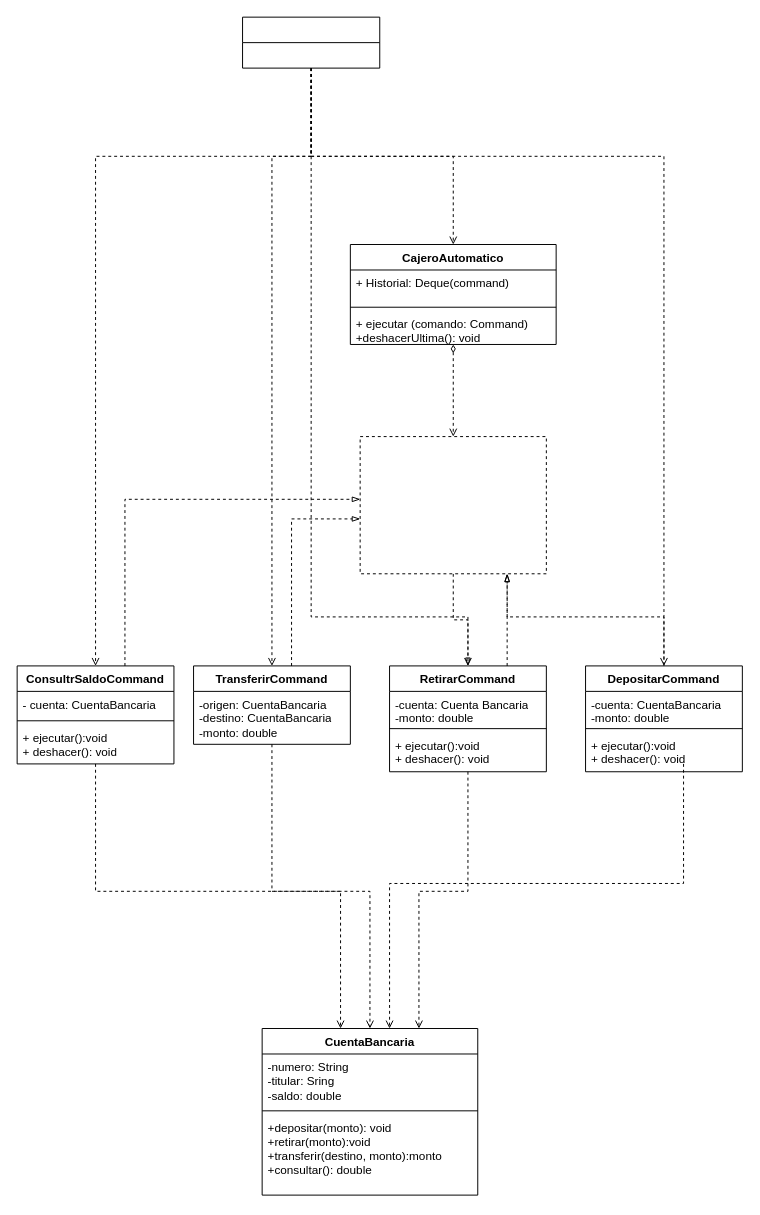
This 760x1215 diagram has some shape labels left out. The centre of each missing label's shape, as x and y in pixels:
<<Interface>> Command +ejecutar(): void + deshacer():void: point (452, 505)
Main: point (311, 42)
